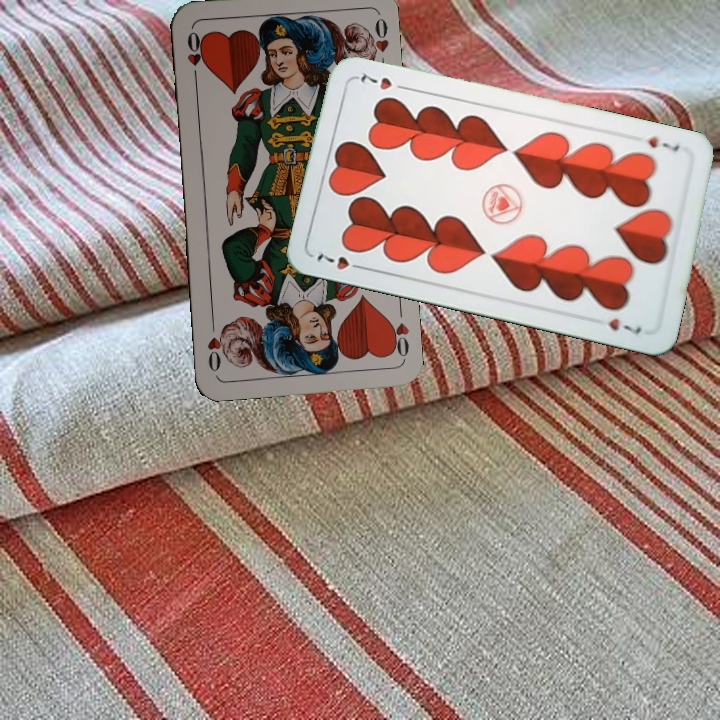H7: (313, 249, 369, 273), (644, 133, 682, 155)
HO: (384, 302, 412, 362), (182, 27, 207, 85)
